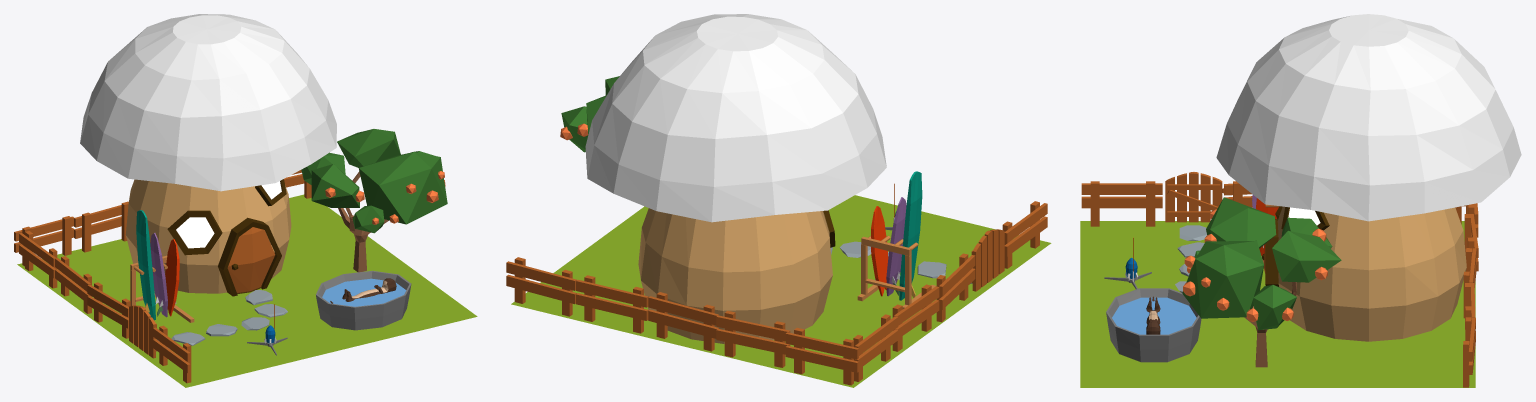
The model's file is summer.glb.
The picture shows the model from 3 angles, left to right: view 1: azimuth 30°, elevation 25°; view 2: azimuth 150°, elevation 25°; view 3: azimuth 270°, elevation 25°; orthographic projection. The views are drawn at different scales.
Parts seen in each view (by area): view 1: cap, Plane, stem, leaves.001, container, leaves.006, leaves.003, fence06, water, longboard, fence05, fence02 (+11 smaller); view 2: cap, Plane, stem, fence05, fence08, fence06, fence09, fence07, rack, fence01, fence03, longboard (+6 smaller); view 3: cap, Plane, stem, leaves.001, container, leaves.003, fence01, door, leaves.006, water, leaves.002, fence09 (+7 smaller).
Part boxes in pixels (left/top/right/bottom): cap: left=80, top=14, right=336, bottom=191; Plane: left=17, top=194, right=477, bottom=387; stem: left=125, top=179, right=291, bottom=296; leaves.001: left=358, top=152, right=447, bottom=224; container: left=316, top=270, right=411, bottom=330; leaves.006: left=311, top=164, right=364, bottom=207; leaves.003: left=337, top=129, right=400, bottom=167; fence06: left=74, top=201, right=128, bottom=252; water: left=322, top=278, right=406, bottom=306; longboard: left=136, top=210, right=155, bottom=320; fence05: left=14, top=216, right=74, bottom=266; fence02: left=87, top=282, right=130, bottom=338; cap: left=585, top=14, right=886, bottom=222; Plane: left=511, top=195, right=1051, bottom=387; stem: left=638, top=208, right=835, bottom=343; fence05: left=785, top=327, right=858, bottom=385; fence08: left=576, top=275, right=648, bottom=333; fence06: left=716, top=310, right=790, bottom=367; fence09: left=506, top=257, right=576, bottom=316; fence07: left=648, top=292, right=718, bottom=351; rack: left=857, top=235, right=935, bottom=308; fence01: left=1002, top=201, right=1047, bottom=268; fence03: left=892, top=284, right=939, bottom=351; longboard: left=899, top=171, right=922, bottom=300; cap: left=1216, top=14, right=1521, bottom=221; Plane: left=1080, top=221, right=1475, bottom=387; stem: left=1262, top=206, right=1466, bottom=341; leaves.001: left=1182, top=240, right=1263, bottom=318; container: left=1106, top=288, right=1201, bottom=362; leaves.003: left=1272, top=230, right=1341, bottom=282; fence01: left=1081, top=181, right=1162, bottom=226; door: left=1165, top=172, right=1225, bottom=222; leaves.006: left=1204, top=197, right=1276, bottom=248; water: left=1112, top=297, right=1196, bottom=334; leaves.002: left=1246, top=284, right=1296, bottom=330; fence09: left=1463, top=317, right=1475, bottom=387.
Size of the model in its own units: 4.63 by 3.06 by 4.46.
